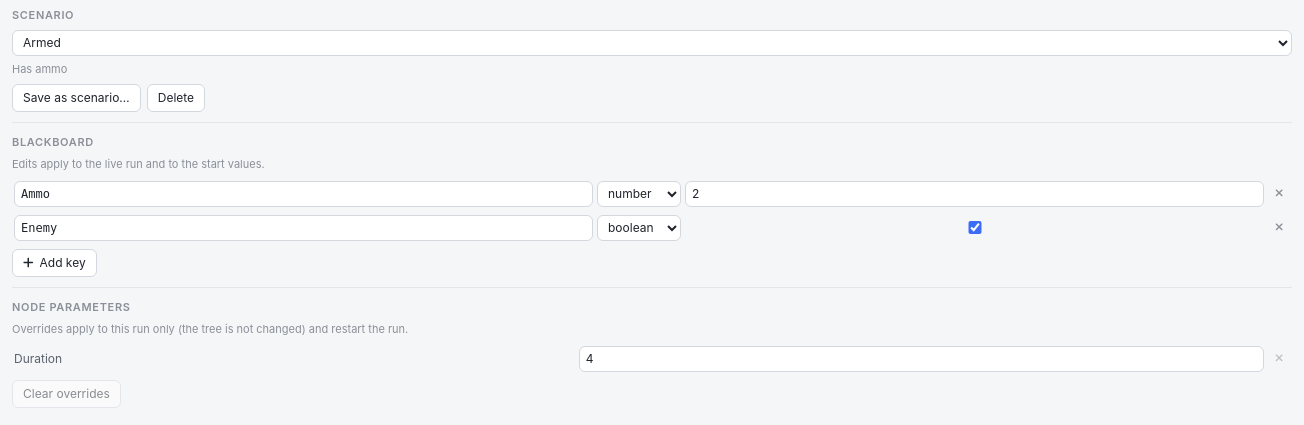
Scenario: run mode components › RunPanel › overrides the properties of the selected node and clears them
Expected: the button "Clear overrides" is disabled, [12,380,121,408]
Type "1" into the number field named "Override Duration". click: (921, 359)
box: [579,346,1264,372]
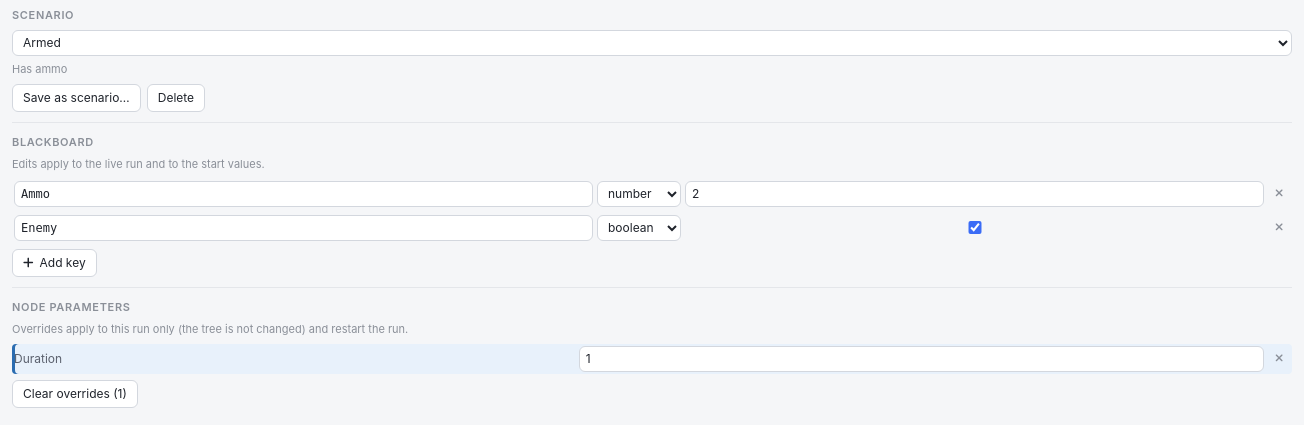
Result: the list item named "Override Duration" has attribute data-overridden="true" at [12,344,1292,374]
Click the button "Clear overrides (1)". click: (75, 394)
box: [12,380,138,408]
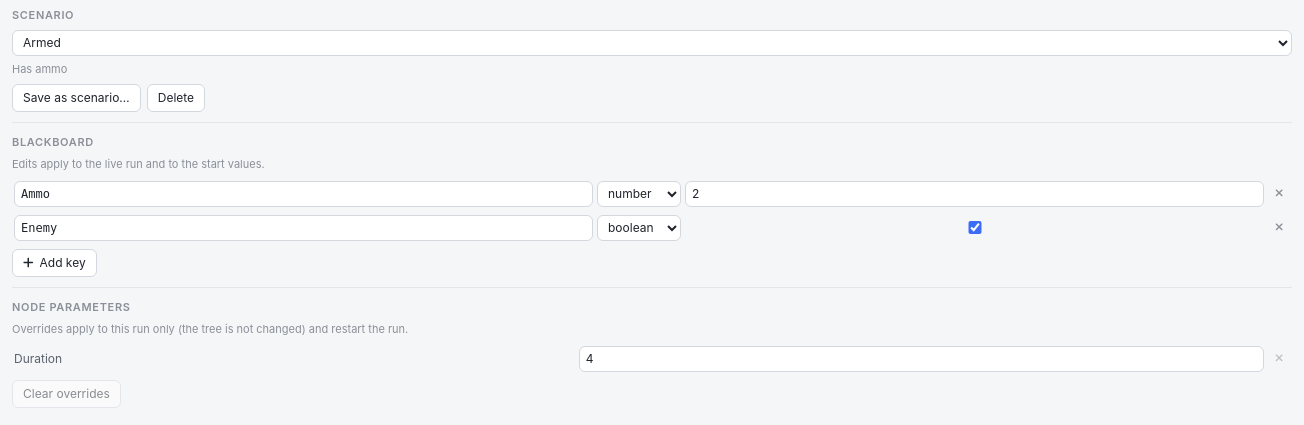
Result: the number field named "Override Duration" holds "4" at [579,346,1264,372]
